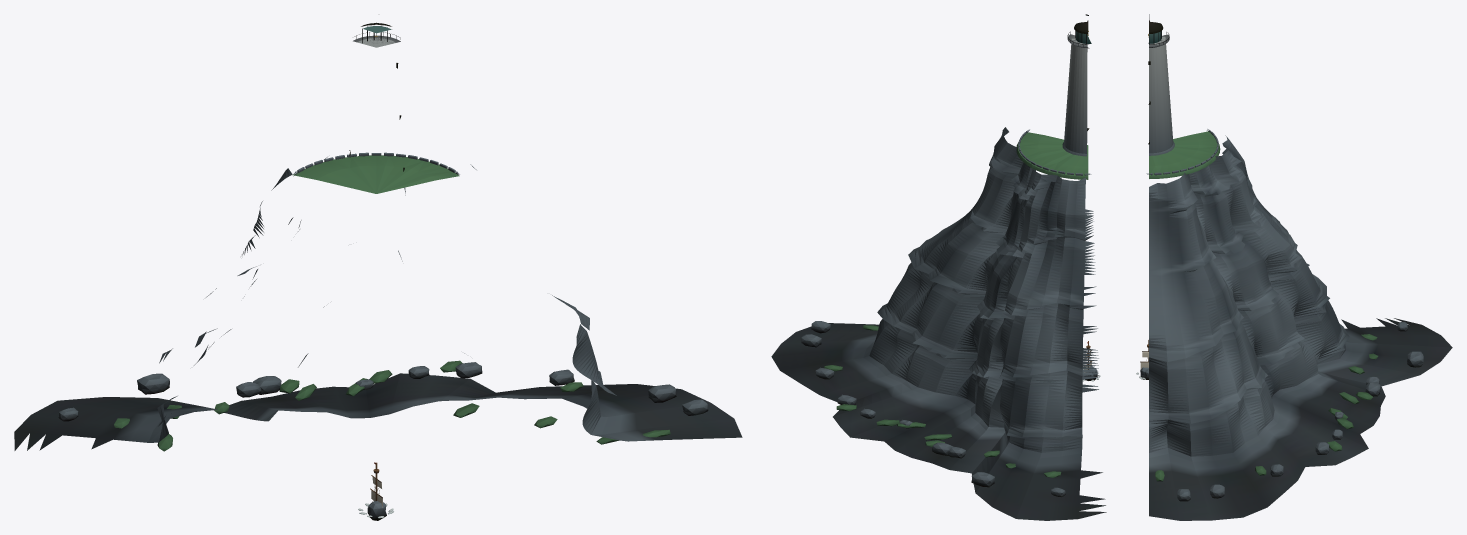
File: coast-s3-DSG-QOt4.glb
3 views of the same model, side by side, from view 1: azimuth 30°, elevation 25°; view 2: azimuth 150°, elevation 25°; view 3: azimuth 270°, elevation 25° (orthographic). The views are drawn at different scales.
Parts seen in each view (by area): view 1: sc_landmark_0; view 2: sc_landmark_0; view 3: sc_landmark_0.
Boxes of the visible parts, x1,y1,x2,y2 form: sc_landmark_0: (14, 22, 742, 451); sc_landmark_0: (771, 14, 1106, 520); sc_landmark_0: (1146, 14, 1452, 520).
Bounding box in the file's own units: 375 × 320 × 247.
